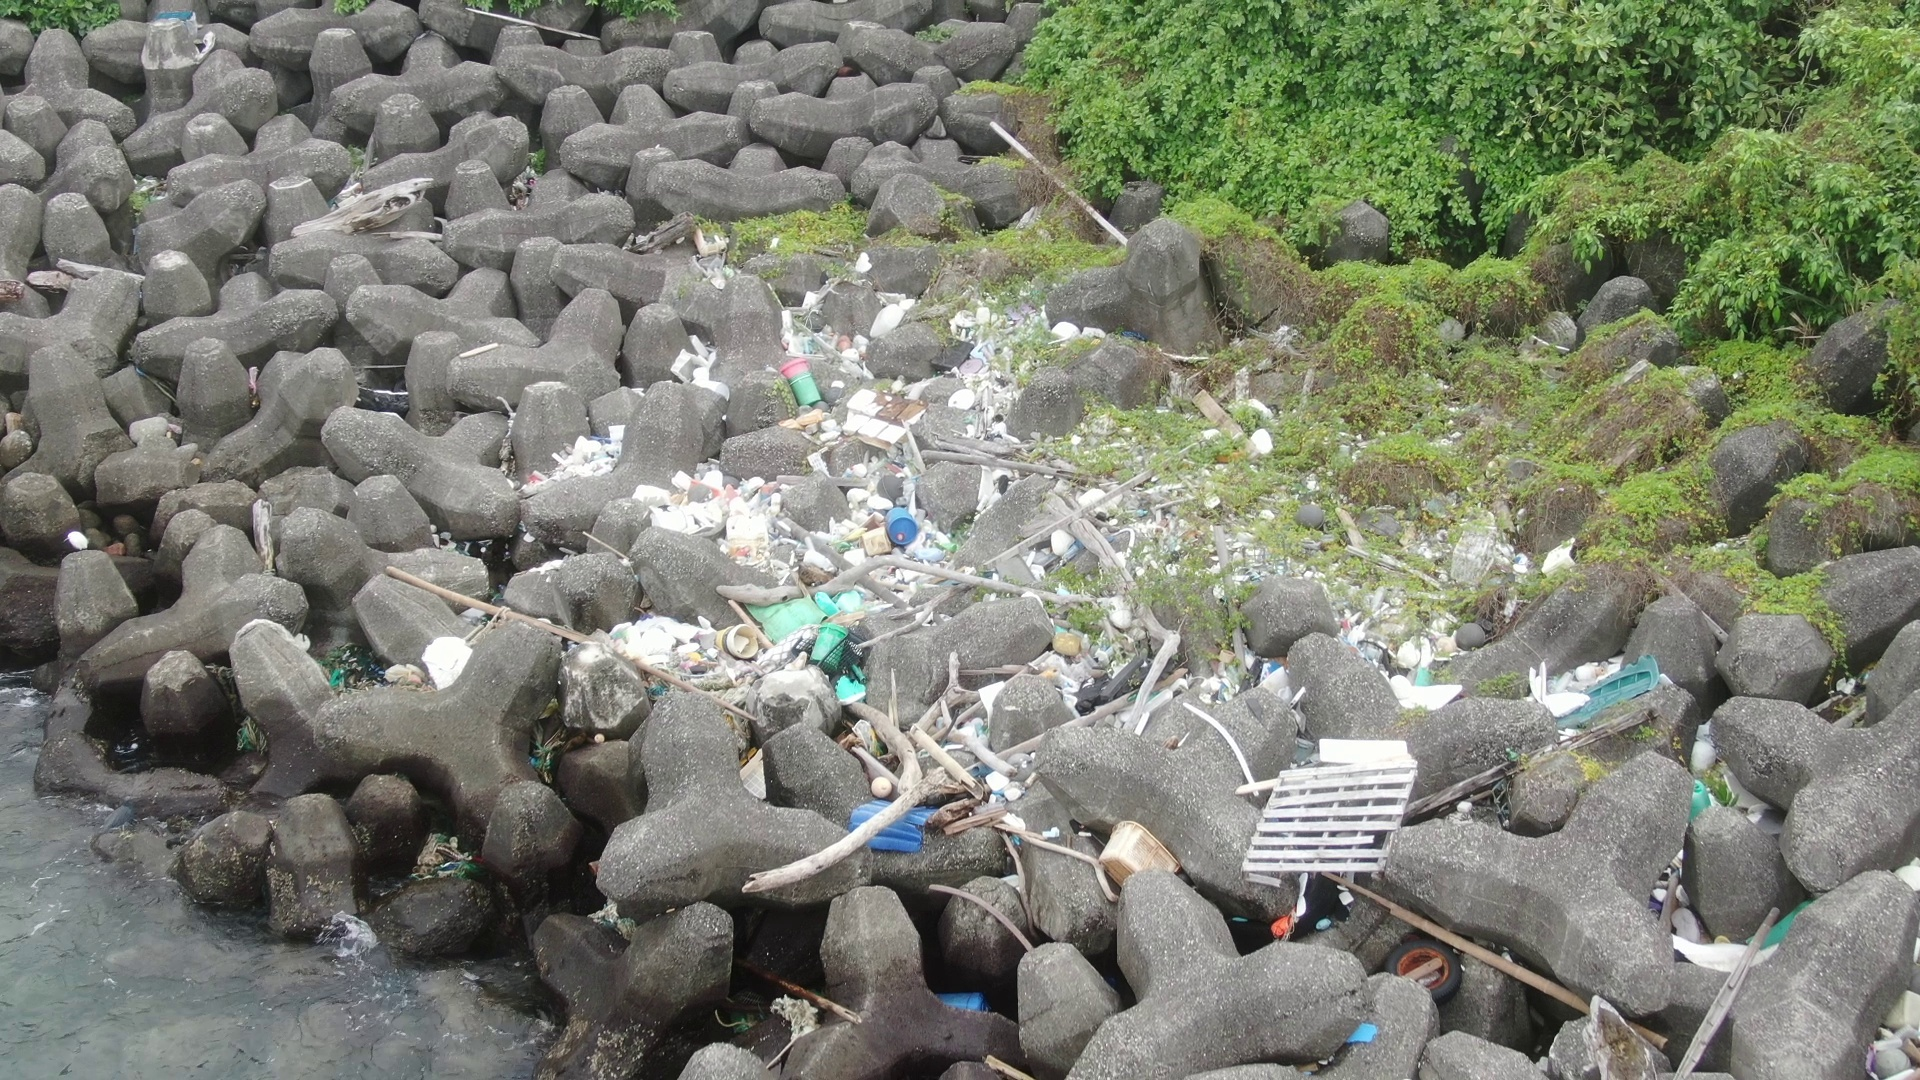garbage: (535, 251, 1215, 731), (775, 729, 1193, 886), (1220, 717, 1427, 940), (1646, 827, 1820, 985), (1321, 582, 1489, 727), (773, 971, 1009, 1051), (1350, 938, 1466, 1058), (1509, 651, 1671, 727), (313, 632, 389, 692), (409, 820, 469, 887), (1671, 761, 1730, 829), (520, 731, 570, 800), (227, 702, 270, 767), (150, 1, 212, 44)
